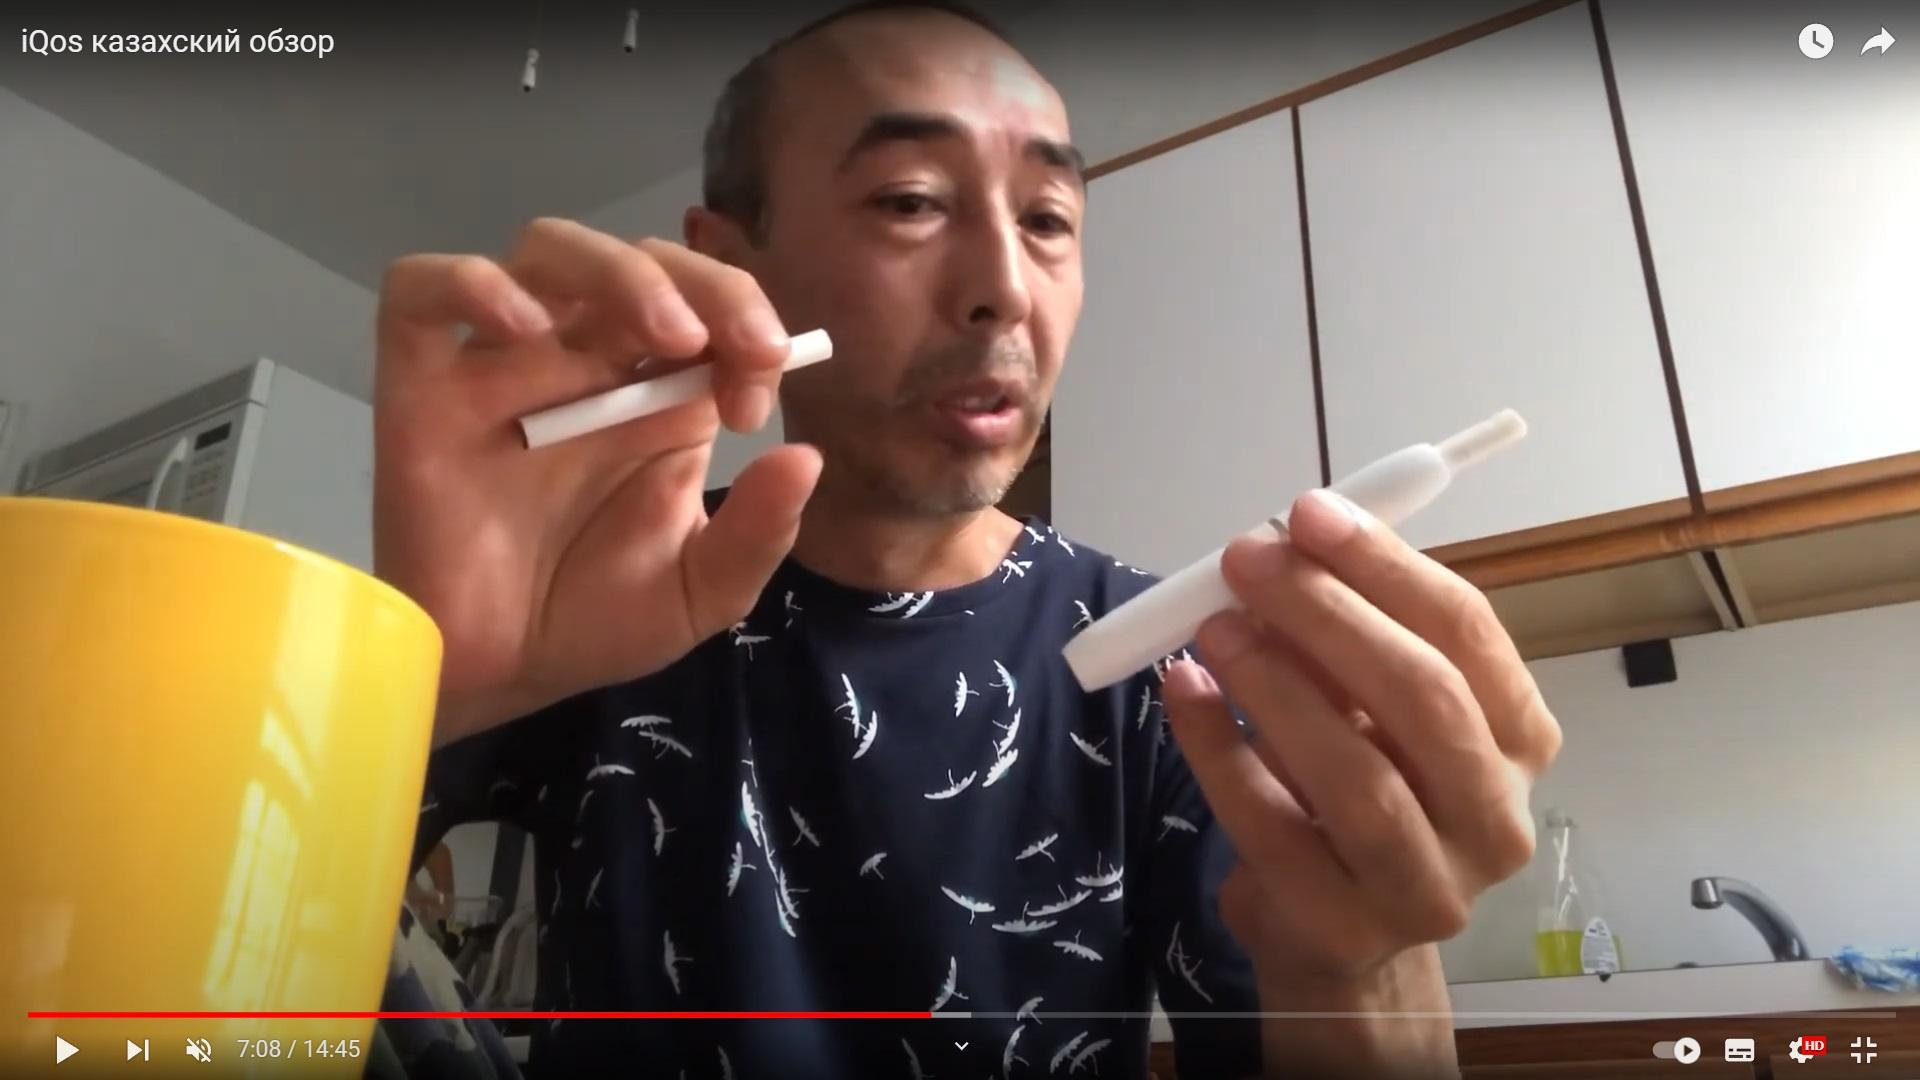cigarette: (517, 328, 833, 450)
iqos: (1059, 406, 1528, 694)
